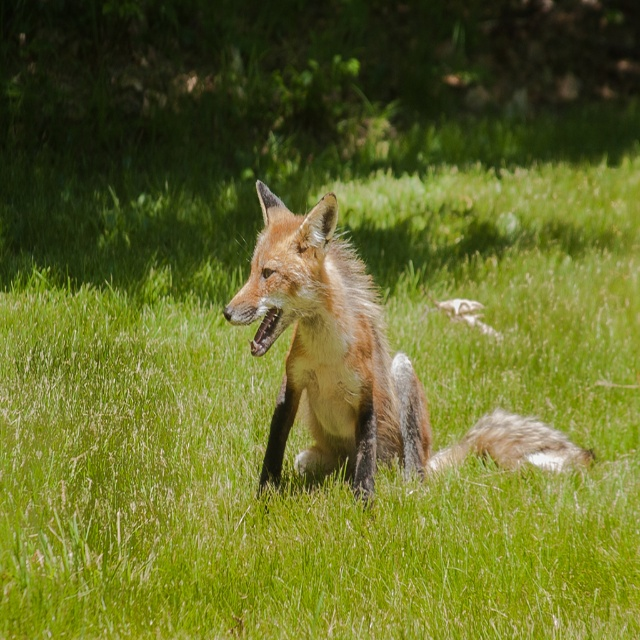Fox: (223, 179, 595, 539)
